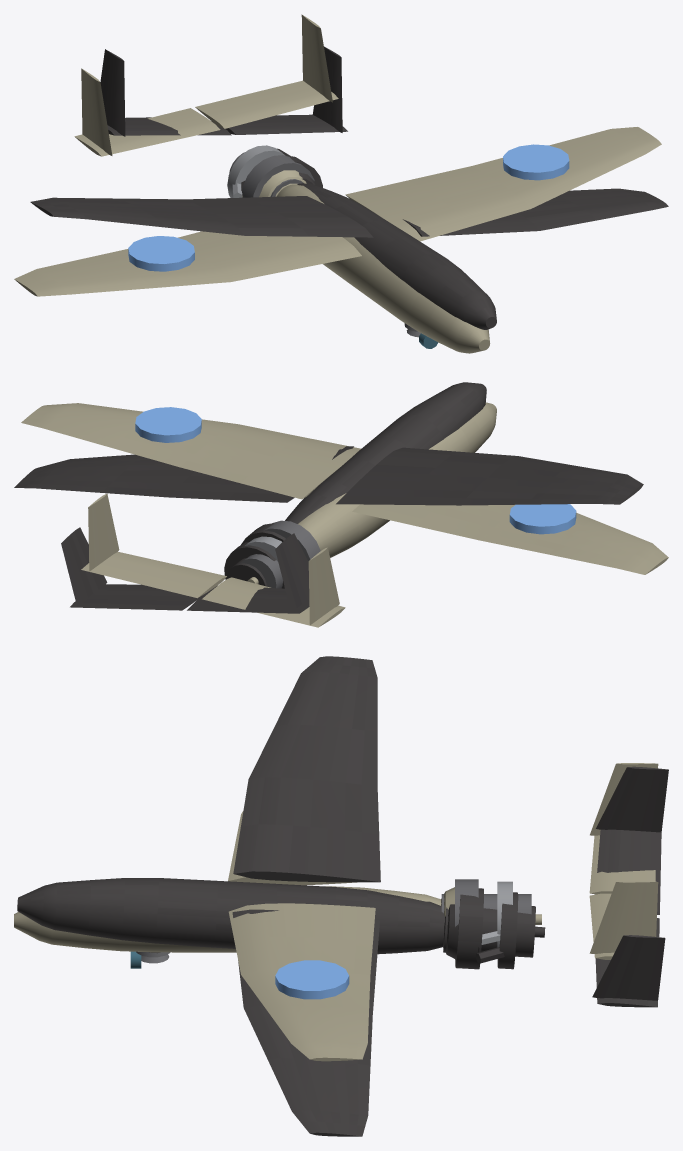
Rendered from drone__skylark_i_evtol.glb.
3 views of the same model, one above another, from view 1: azimuth 30°, elevation 25°; view 2: azimuth 150°, elevation 25°; view 3: azimuth 270°, elevation 25° (orthographic). The views are drawn at different scales.
Visible parts, largest first — view 1: Fuselage_Mesh, Wreck, Propeller_Mesh; view 2: Fuselage_Mesh, Wreck, Propeller_Mesh; view 3: Wreck, Fuselage_Mesh, Propeller_Mesh.
Boxes of the visible parts, x1,y1,x2,y2 form: Fuselage_Mesh: (14,14,661,353); Wreck: (30,46,668,329); Propeller_Mesh: (227,145,314,197); Fuselage_Mesh: (21,402,668,627); Wreck: (14,382,643,613); Propeller_Mesh: (240,520,320,588); Wreck: (17,656,668,1136); Fuselage_Mesh: (14,763,658,1061); Propeller_Mesh: (441,879,541,959).
Size of what is drawn, in the model's own units: 3.03 by 0.6564 by 2.48.
